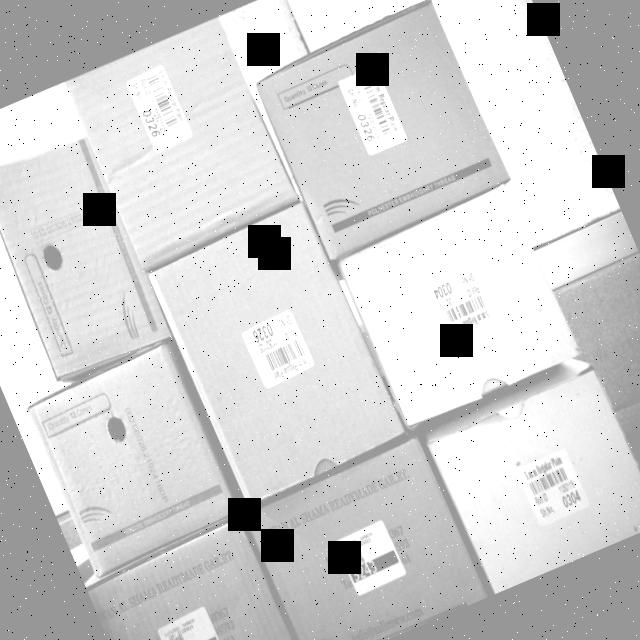box: (146, 204, 404, 501), (252, 2, 510, 256), (65, 14, 299, 266), (337, 184, 578, 424), (239, 436, 486, 640), (426, 368, 640, 594), (26, 344, 238, 572), (0, 116, 174, 385), (84, 519, 303, 640)
